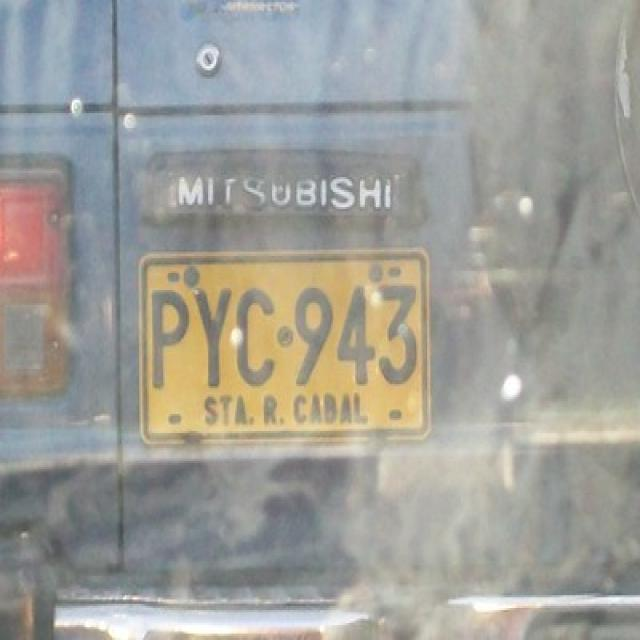placa_carro: (136, 246, 452, 449)
